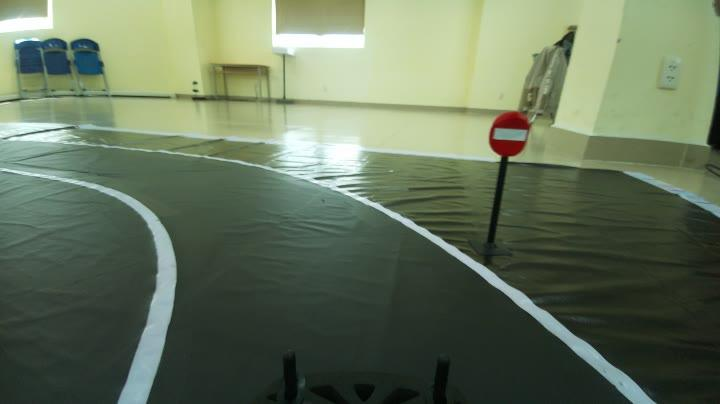no_entry: (477, 104, 541, 165)
